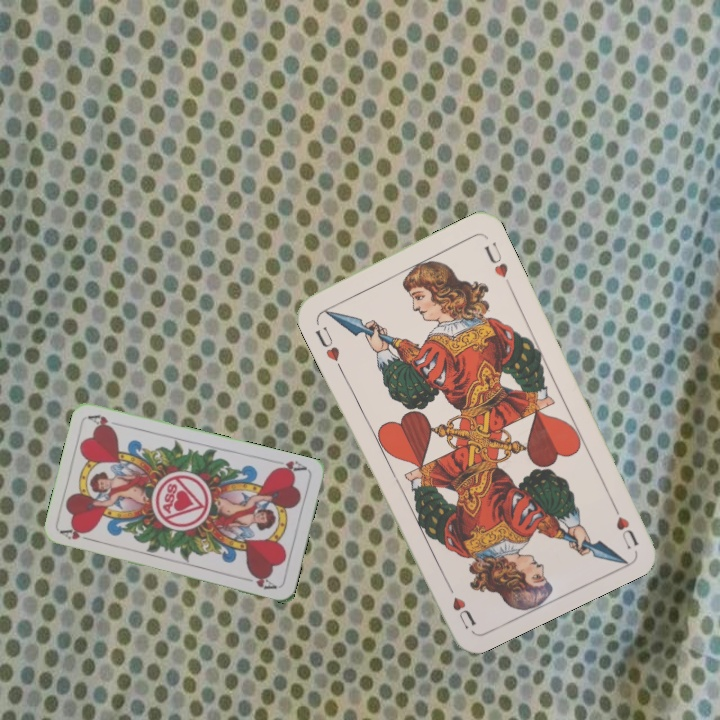HA: (270, 457, 310, 477), (57, 525, 97, 544)
HU: (606, 496, 641, 552), (311, 322, 343, 364)
